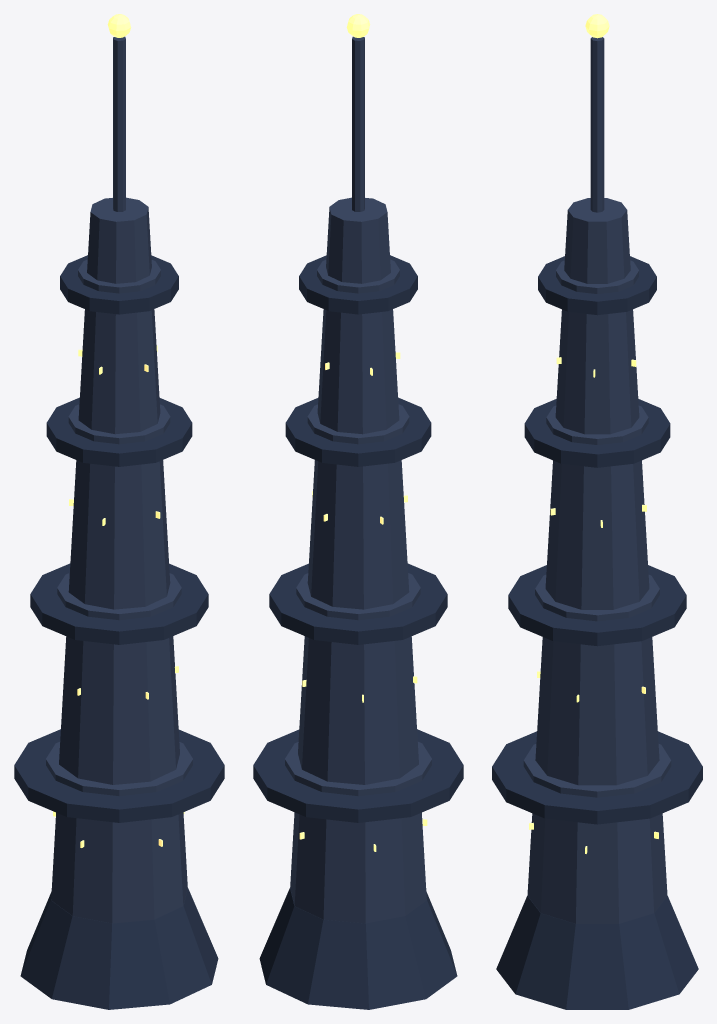
The model's file is tower-a.glb.
3 views of the same model, side by side, from view 1: azimuth 30°, elevation 25°; view 2: azimuth 150°, elevation 25°; view 3: azimuth 270°, elevation 25° (orthographic).
Parts seen in each view (by area): view 1: Cone, Cone.001, Cylinder, Cylinder.002, Cylinder.004, Cylinder.006, Cylinder.001, Cylinder.008, Cylinder.003, Cylinder.005, Cylinder.007; view 2: Cone, Cone.001, Cylinder, Cylinder.002, Cylinder.004, Cylinder.006, Cylinder.001, Cylinder.008, Cylinder.003, Cylinder.005, Cylinder.007; view 3: Cone, Cone.001, Cylinder, Cylinder.002, Cylinder.004, Cylinder.006, Cylinder.008, Cylinder.001, Cylinder.003, Cylinder.005, Cylinder.007.
Boxes of the visible parts, <box> form: Cone: <box>51,197,187,923</box>; Cone.001: <box>20,888,218,1009</box>; Cylinder: <box>14,729,224,822</box>; Cylinder.002: <box>30,563,208,644</box>; Cylinder.004: <box>46,397,192,466</box>; Cylinder.006: <box>60,255,178,314</box>; Cylinder.001: <box>46,742,192,796</box>; Cylinder.008: <box>113,36,125,211</box>; Cylinder.003: <box>57,573,181,620</box>; Cylinder.005: <box>68,404,170,444</box>; Cylinder.007: <box>78,259,160,293</box>; Cone: <box>290,197,426,923</box>; Cone.001: <box>259,888,457,1009</box>; Cylinder: <box>253,729,463,822</box>; Cylinder.002: <box>269,563,447,644</box>; Cylinder.004: <box>285,397,431,466</box>; Cylinder.006: <box>299,255,417,314</box>; Cylinder.001: <box>285,742,431,796</box>; Cylinder.008: <box>352,36,364,211</box>; Cylinder.003: <box>296,573,420,620</box>; Cylinder.005: <box>307,404,409,444</box>; Cylinder.007: <box>317,259,399,293</box>; Cone: <box>527,198,667,923</box>; Cone.001: <box>496,895,698,1009</box>; Cylinder: <box>492,731,702,824</box>; Cylinder.002: <box>508,565,686,646</box>; Cylinder.004: <box>524,399,670,467</box>; Cylinder.006: <box>538,256,656,315</box>; Cylinder.008: <box>590,37,604,212</box>; Cylinder.001: <box>523,744,671,797</box>; Cylinder.003: <box>535,575,659,621</box>; Cylinder.005: <box>546,405,648,444</box>; Cylinder.007: <box>556,260,638,293</box>.
Size of the model in its own units: 15.6 by 77.9 by 15.6.
